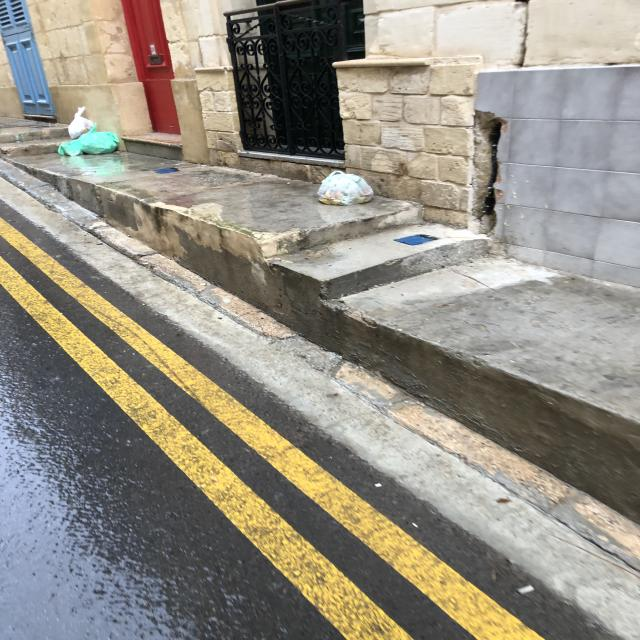Organic Waste -White Bag-: (321, 171, 377, 208), (65, 105, 96, 139)
Recycled Waste -Grey or Green Bag-: (56, 130, 128, 160)
